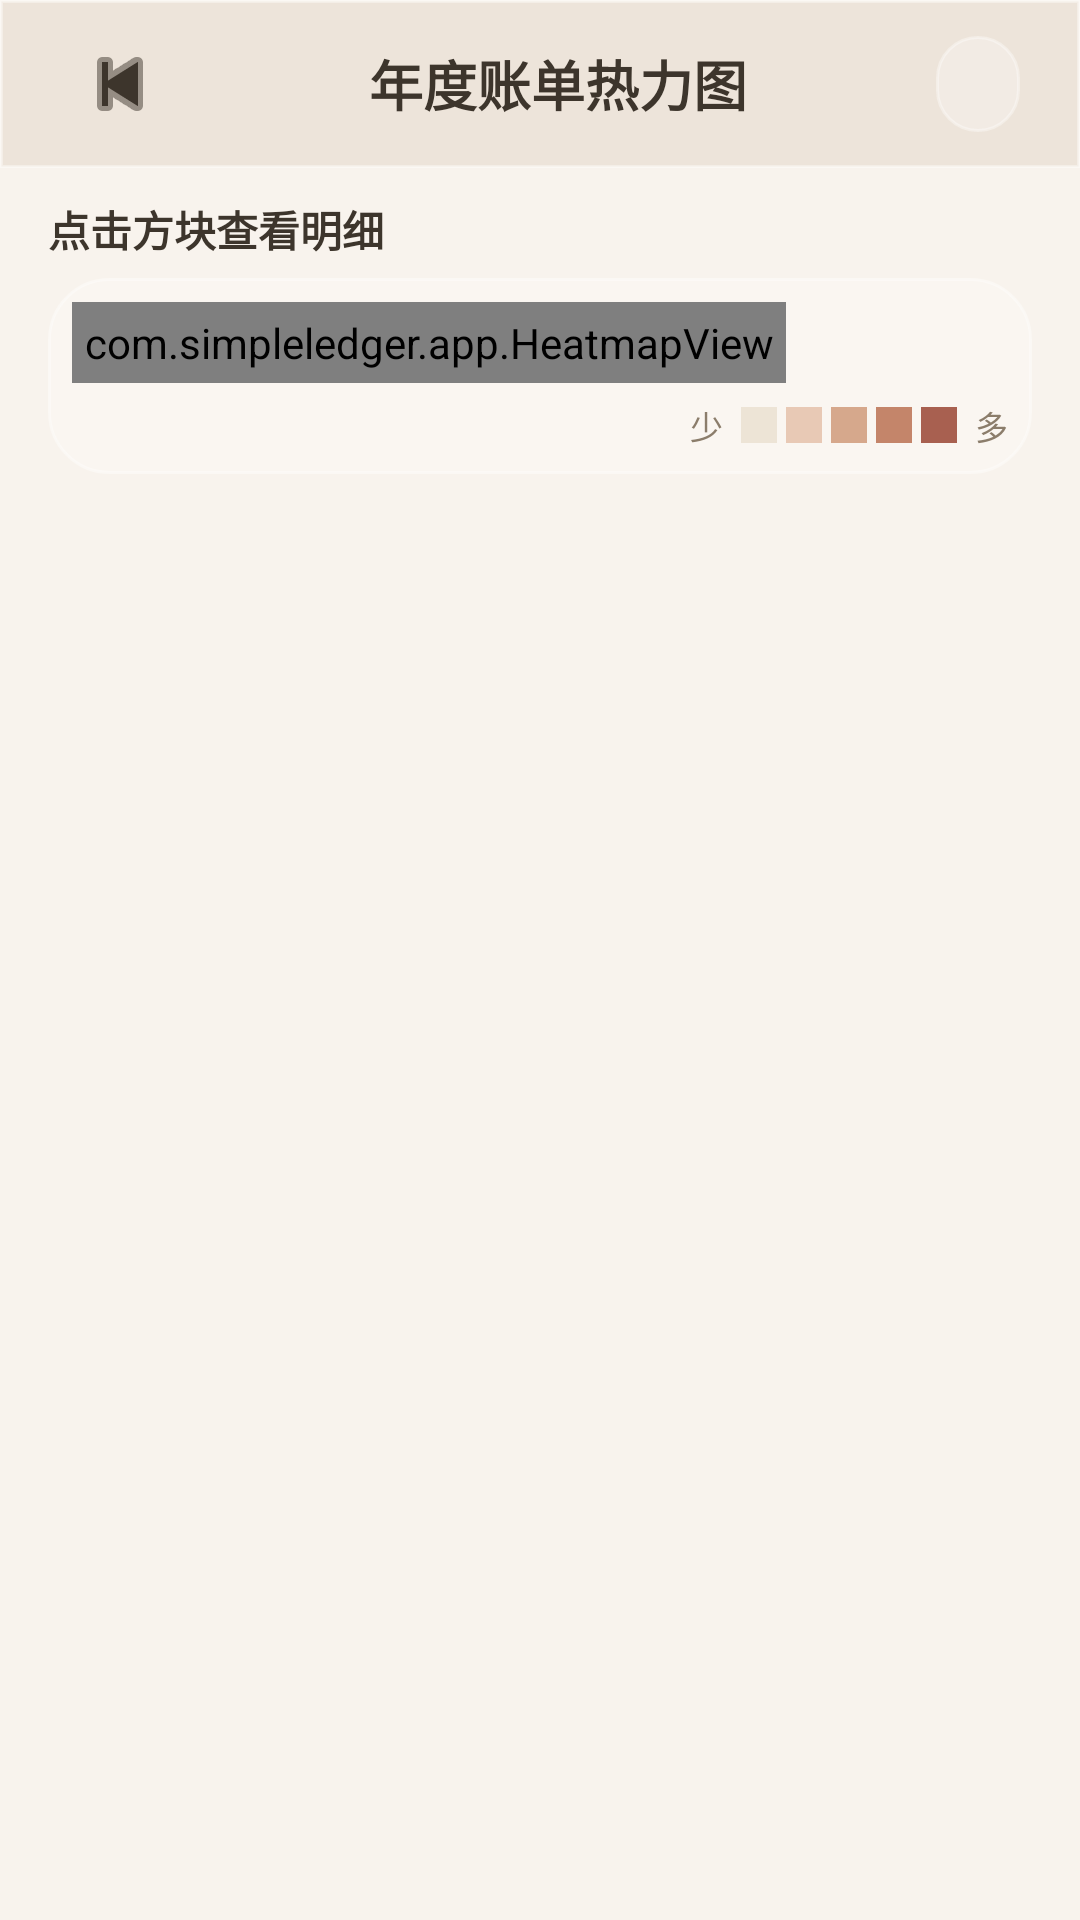

Named icons in this screenshot (1080 × 1920) and their bounding boxes, (x1, y1, x2, y2):
previous: (97, 57, 143, 111)
